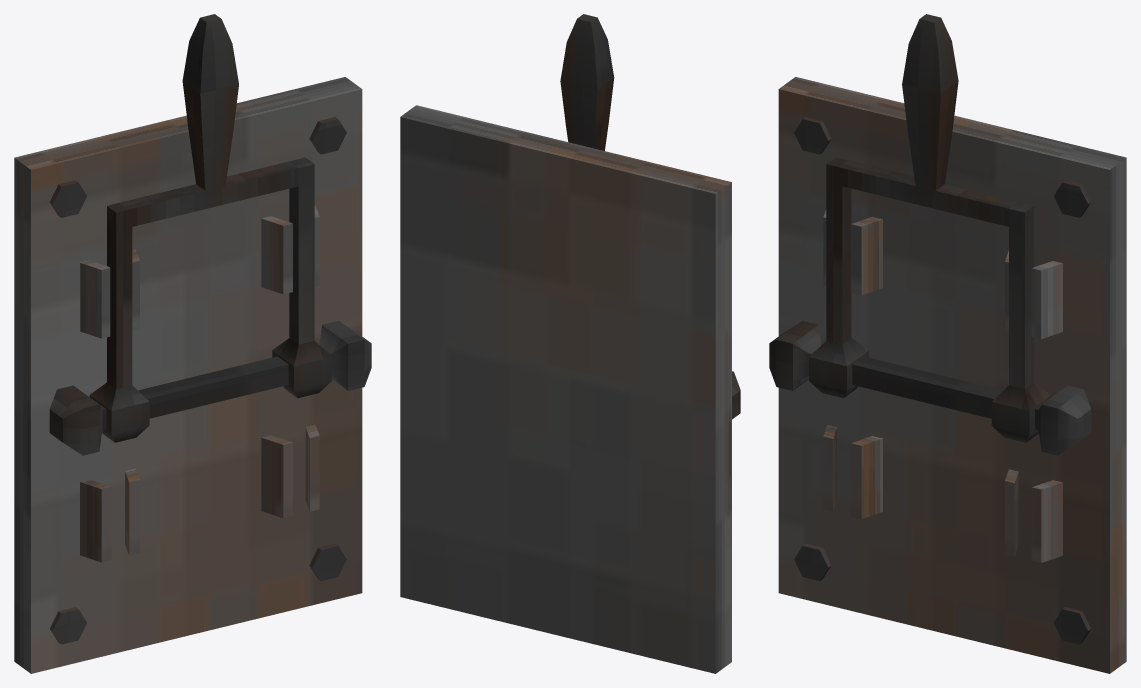
File: FrankSwitch.fbx
The picture shows the model from 3 angles, left to right: view 1: azimuth 30°, elevation 25°; view 2: azimuth 150°, elevation 25°; view 3: azimuth 330°, elevation 25°; orthographic projection. The views are drawn at different scales.
Parts seen in each view (by area): view 1: pCube1, pCube6, pCube5, pCube7, pCylinder2, pCylinder1, pCylinder3, pCylinder4; view 2: pCube1, pCube6; view 3: pCube1, pCube6, pCube5, pCube7, pCylinder1, pCylinder3, pCylinder4, pCylinder2.
Part boxes in pixels (box(x1,y1,x2,y2)): pCube1: box(14, 77, 362, 673); pCube6: box(89, 14, 298, 442); pCube5: box(49, 321, 371, 455); pCube7: box(272, 157, 331, 398); pCylinder2: box(309, 543, 346, 581); pCylinder1: box(50, 607, 86, 644); pCylinder3: box(50, 180, 86, 217); pCylinder4: box(309, 117, 346, 154); pCube1: box(400, 105, 731, 673); pCube6: box(560, 14, 614, 150); pCube1: box(778, 77, 1126, 673); pCube6: box(809, 14, 1017, 398); pCube5: box(769, 321, 1091, 455); pCube7: box(991, 202, 1051, 442); pCylinder1: box(794, 543, 831, 581); pCylinder3: box(794, 117, 831, 154); pCylinder4: box(1054, 180, 1090, 217); pCylinder2: box(1054, 607, 1090, 644).
Size of the model in its own units: 2.77 by 4.99 by 0.6361.
